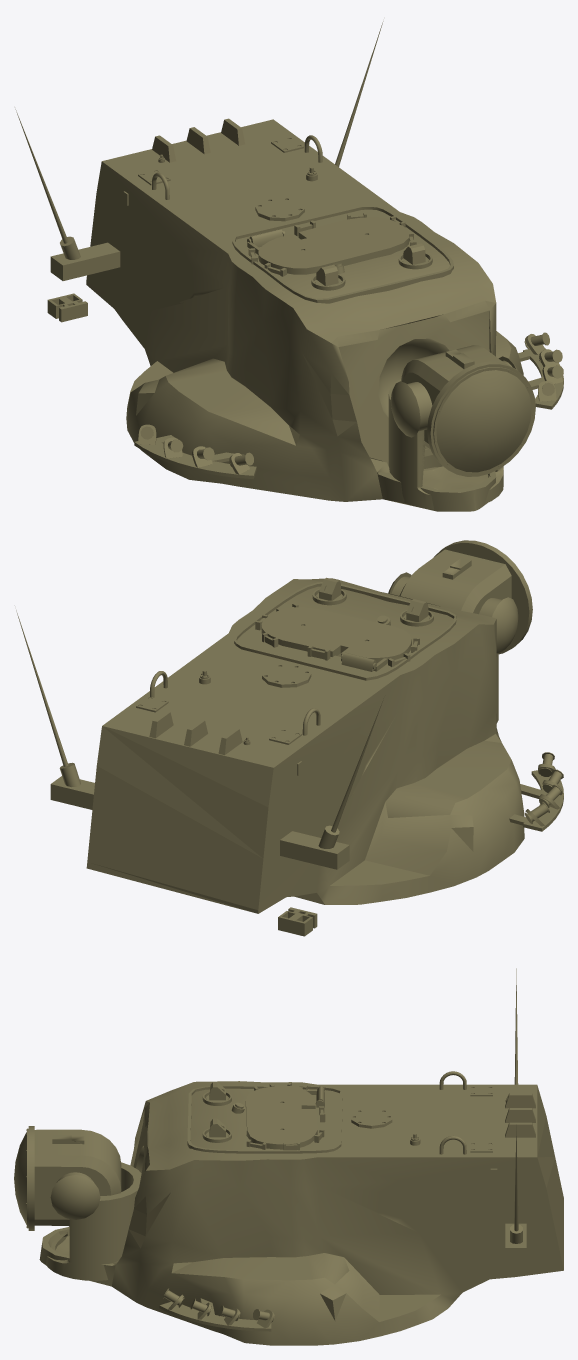
Rendered from tower.fbx.
3 renders of one model, top to bottom at view 1: azimuth 30°, elevation 25°; view 2: azimuth 150°, elevation 25°; view 3: azimuth 270°, elevation 25°, orthographic. The views are drawn at different scales.
Visible parts, largest first — view 1: tower; view 2: tower; view 3: tower.
Boxes of the visible parts, box(x1,y1,x2,y2) form: tower: box(15, 21, 563, 511); tower: box(16, 540, 563, 936); tower: box(14, 968, 563, 1345).
Bounding box in the file's own units: 2952 × 1840 × 4007.
